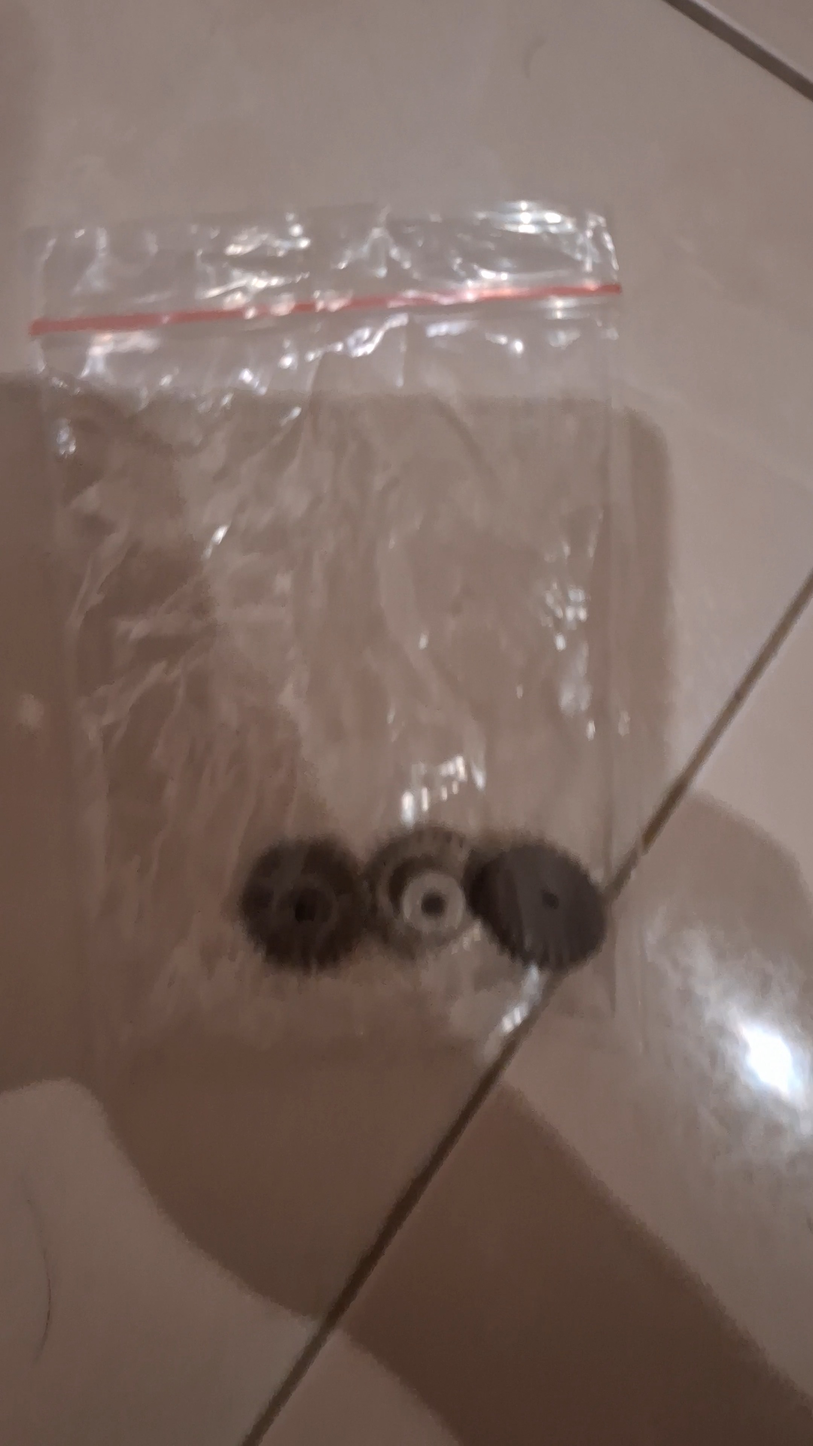spur gear: (241, 827, 606, 971), (466, 841, 606, 969), (240, 839, 367, 971), (367, 825, 472, 957)
